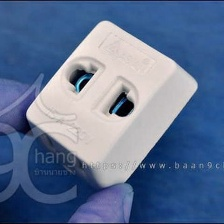three_eye_plug: (23, 17, 202, 196)
